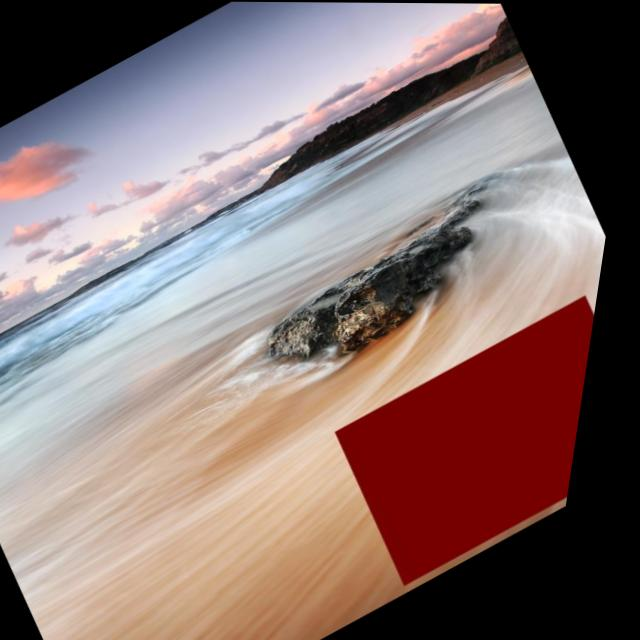RedSquare: (317, 282, 607, 594)
